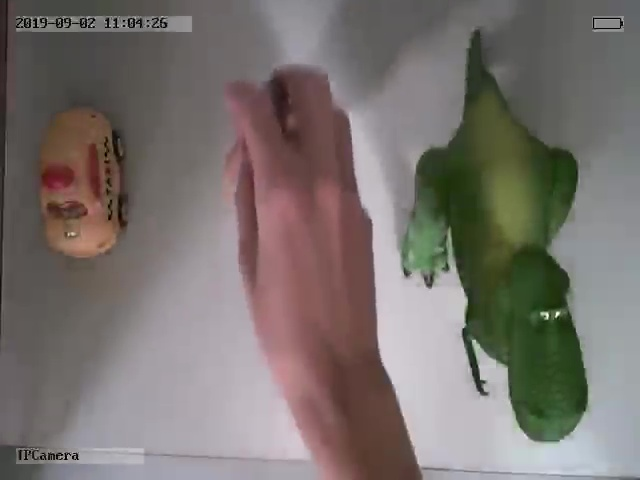car: (38, 105, 128, 258)
rex: (398, 26, 589, 445)
